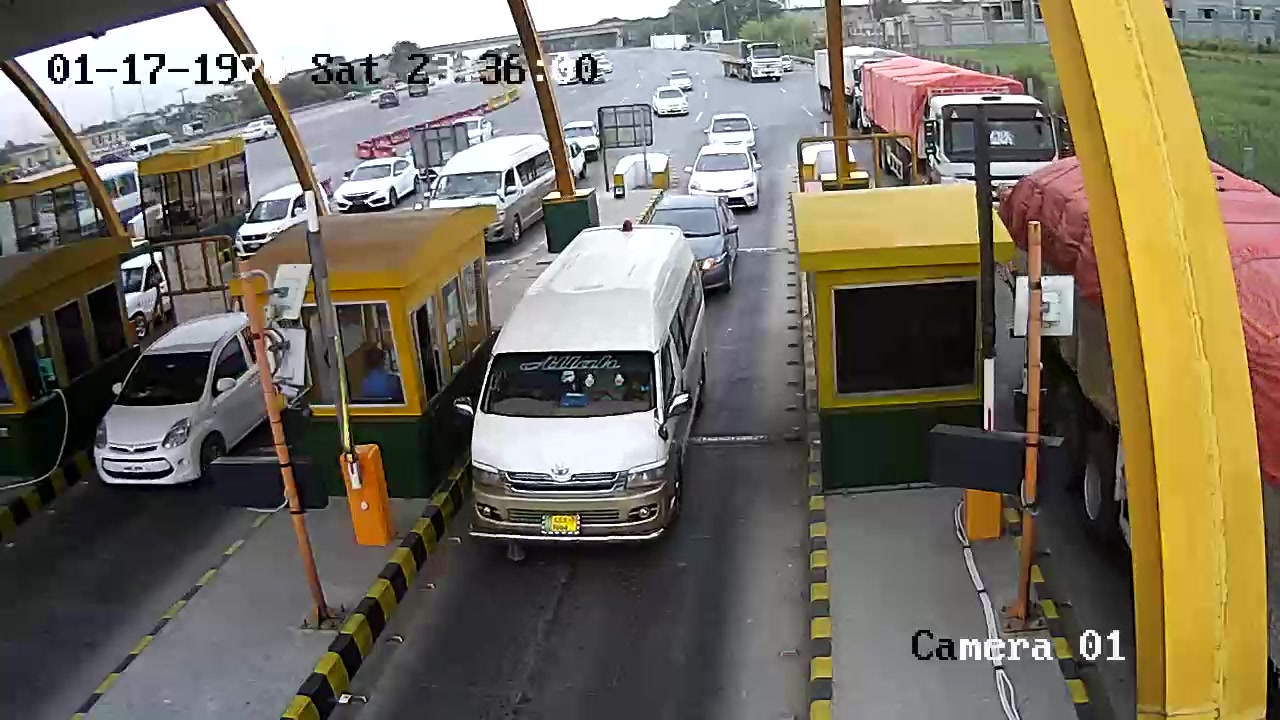F3: (467, 218, 711, 553)
